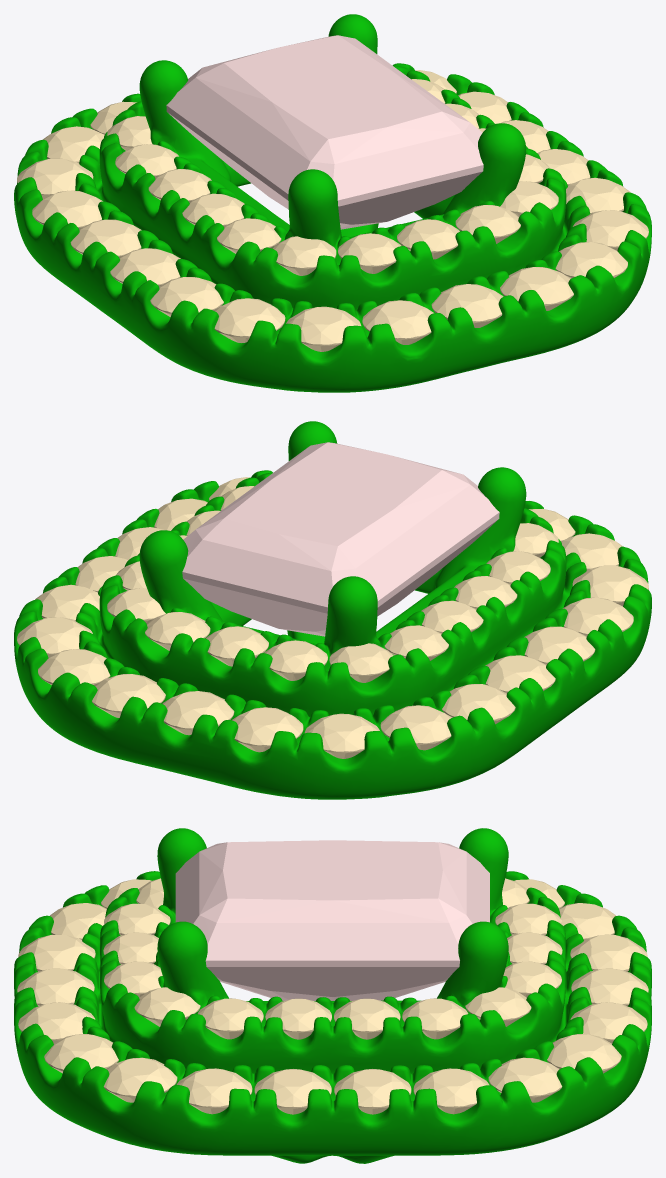
3 renders of one model, top to bottom at view 1: azimuth 30°, elevation 25°; view 2: azimuth 150°, elevation 25°; view 3: azimuth 270°, elevation 25°, orthographic.
Parts seen in each view (by area): view 1: Metal01, Diamond_Radiant, Diamond_Round.004, Diamond_Round, Diamond_Round.013, Diamond_Round.021, Diamond_Round.002, Diamond_Round.012, Diamond_Round.006, Diamond_Round.020, Diamond_Round.019, Diamond_Round.011 (+19 smaller); view 2: Metal01, Diamond_Radiant, Diamond_Round.016, Diamond_Round.017, Diamond_Round.018, Diamond_Round.003, Diamond_Round.001, Diamond_Round.019, Diamond_Round.005, Diamond_Round.012, Diamond_Round.011, Diamond_Round.020 (+19 smaller); view 3: Metal01, Diamond_Radiant, Diamond_Round.010, Diamond_Round.008, Diamond_Round.014, Diamond_Round.015, Diamond_Round.007, Diamond_Round.009, Diamond_Round.005, Diamond_Round.006, Diamond_Round.002, Diamond_Round.001 (+22 smaller).
Part boxes in pixels (x1,y1,x2,y2): Metal01: (14, 14, 651, 392); Diamond_Radiant: (166, 35, 483, 229); Diamond_Round.004: (286, 306, 361, 351); Diamond_Round: (362, 300, 433, 344); Diamond_Round.013: (214, 298, 285, 342); Diamond_Round.021: (431, 284, 503, 327); Diamond_Round.002: (500, 267, 573, 310); Diamond_Round.012: (150, 277, 223, 316); Diamond_Round.006: (555, 242, 627, 278); Diamond_Round.020: (70, 219, 141, 257); Diamond_Round.019: (32, 190, 102, 229); Diamond_Round.011: (110, 248, 180, 286); Metal01: (14, 421, 651, 799); Diamond_Radiant: (182, 442, 499, 636); Diamond_Round.016: (232, 707, 303, 752); Diamond_Round.017: (304, 713, 379, 758); Diamond_Round.018: (380, 705, 451, 750); Diamond_Round.003: (162, 691, 234, 735); Diamond_Round.001: (92, 674, 165, 717); Diamond_Round.019: (442, 684, 515, 724); Diamond_Round.005: (38, 649, 110, 685); Diamond_Round.012: (562, 597, 633, 636); Diamond_Round.011: (524, 626, 595, 664); Diamond_Round.020: (485, 655, 555, 693); Metal01: (14, 828, 651, 1163); Diamond_Radiant: (175, 840, 489, 1000); Diamond_Round.010: (413, 1068, 489, 1114); Diamond_Round.008: (176, 1068, 252, 1114); Diamond_Round.014: (488, 1057, 562, 1102); Diamond_Round.015: (103, 1057, 177, 1102); Diamond_Round.007: (254, 1069, 331, 1114); Diamond_Round.009: (334, 1069, 411, 1114); Diamond_Round.005: (547, 1034, 621, 1073); Diamond_Round.006: (44, 1034, 118, 1073); Diamond_Round.002: (18, 1002, 95, 1043); Diamond_Round.001: (570, 1002, 647, 1043).
Size of the model in its own units: 10.54 by 5.77 by 11.98.
